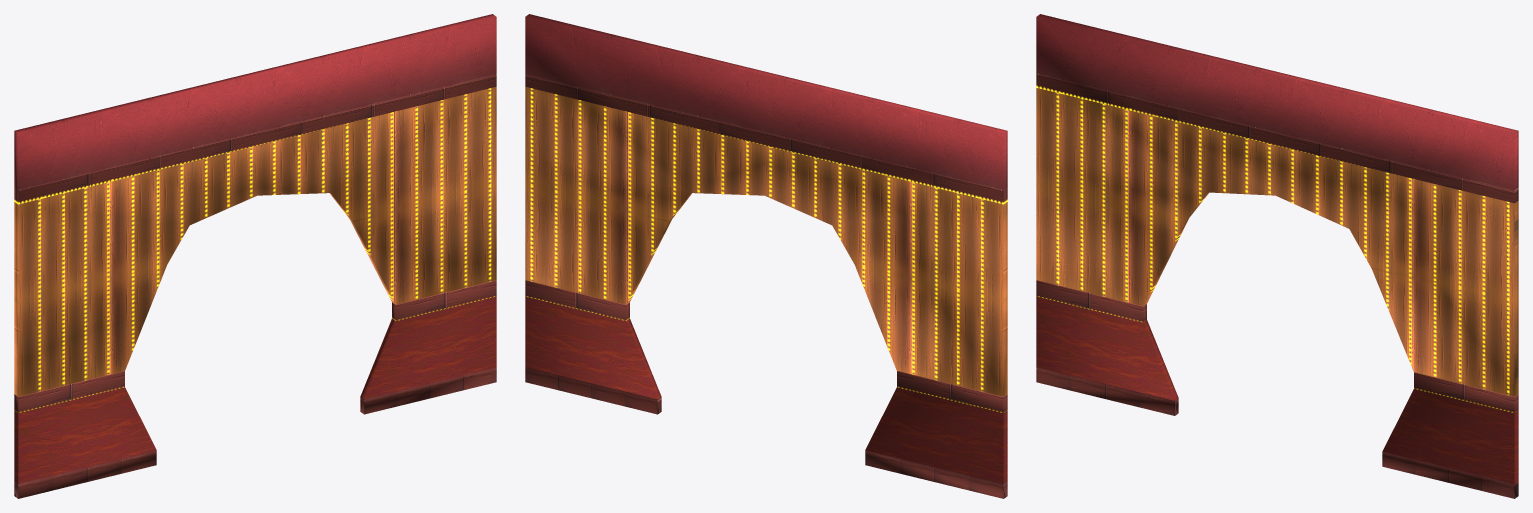
Rendered from RoomDoor_Art.fbx.
3 renders of one model, left to right at view 1: azimuth 30°, elevation 25°; view 2: azimuth 150°, elevation 25°; view 3: azimuth 330°, elevation 25°, orthographic.
Parts seen in each view (by area): view 1: RoomDoor_Art; view 2: RoomDoor_Art; view 3: RoomDoor_Art.
Part boxes in pixels (box(x1,y1,x2,y2)): RoomDoor_Art: box(14, 14, 496, 498); RoomDoor_Art: box(525, 14, 1007, 498); RoomDoor_Art: box(1036, 14, 1518, 498).
Bounding box in the file's own units: 10.79 × 7.88 × 0.15.
